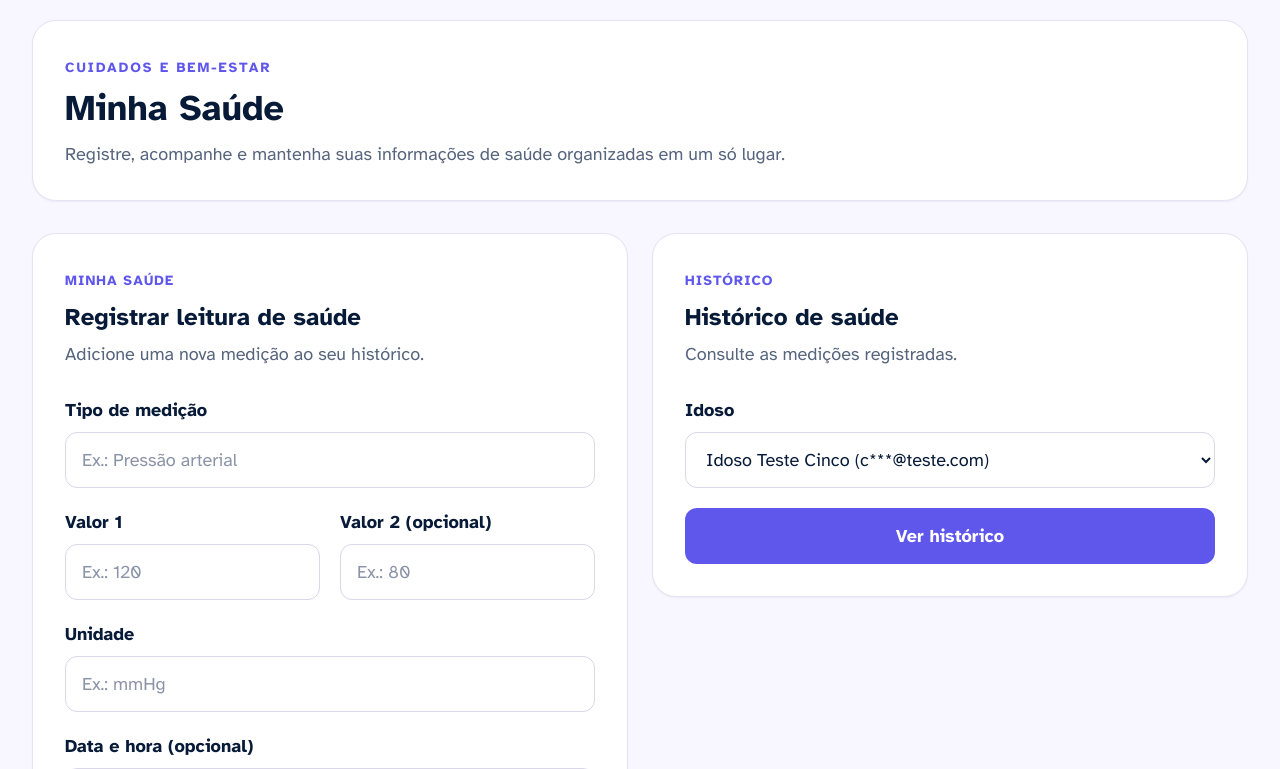
Test case: Saude — acessibilidade do histórico › exibe erro com role alert
The width and height of the screenshot is (1280, 769).
Click the button "Ver histórico": coordinates (950, 536) x1=685 y1=508 x2=1215 y2=564
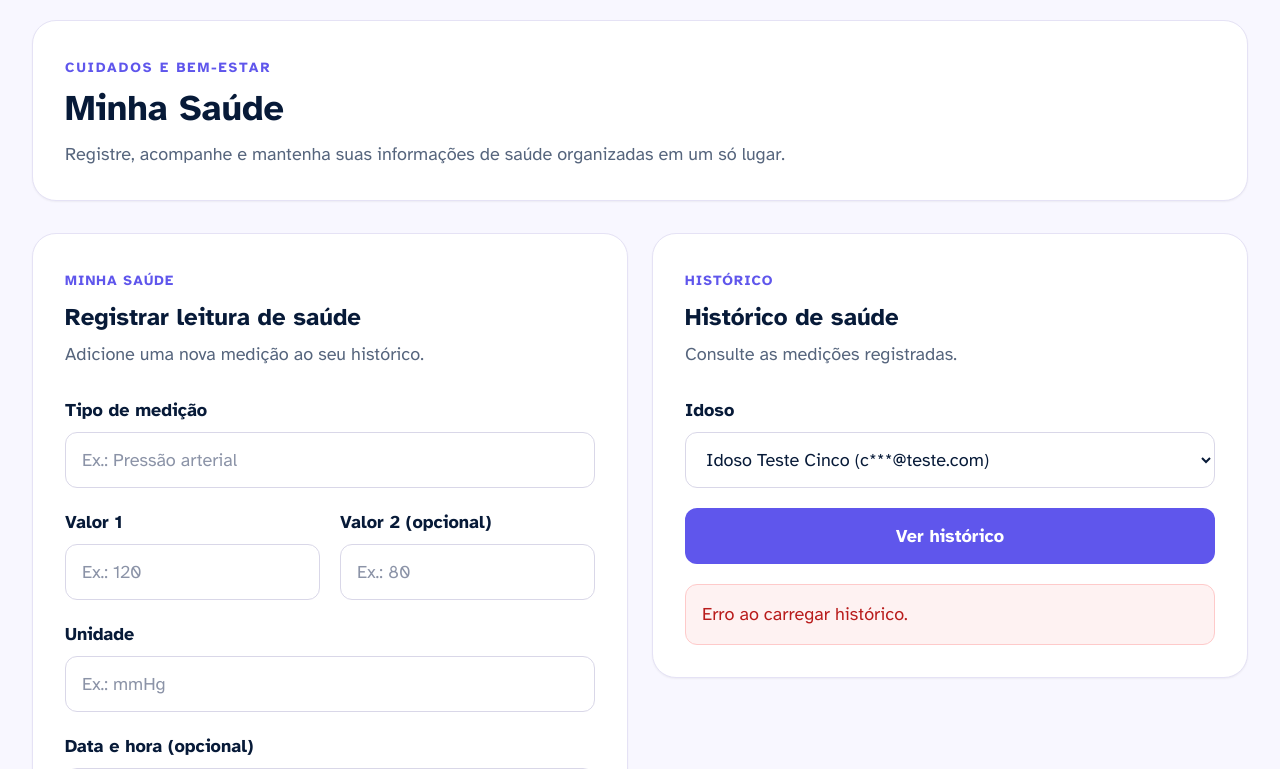
Expected: the message reads "Erro ao carregar histórico.", x1=702 y1=603 x2=908 y2=625
